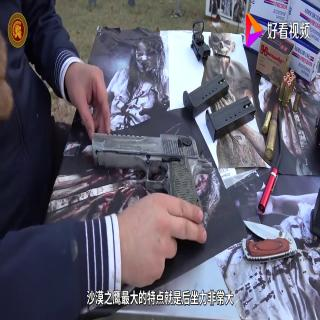gun: (94, 113, 212, 237)
